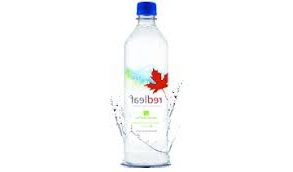plastic water bottle: (115, 1, 177, 170)
